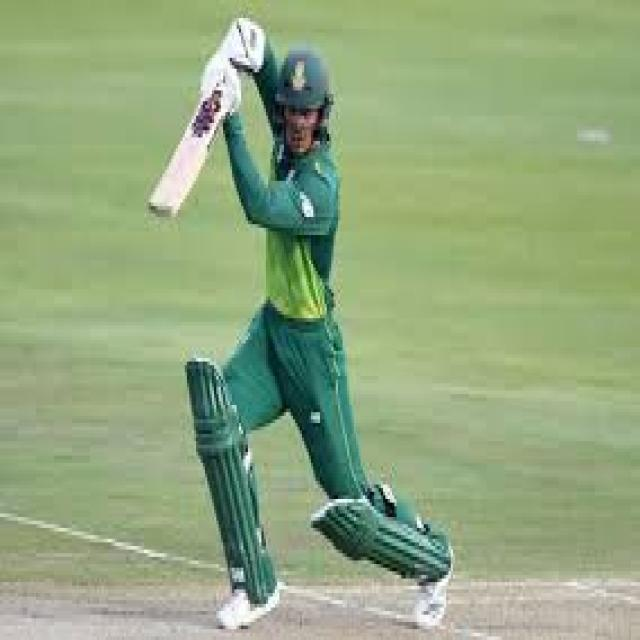bat: (143, 75, 229, 230)
toe: (140, 198, 183, 227)
